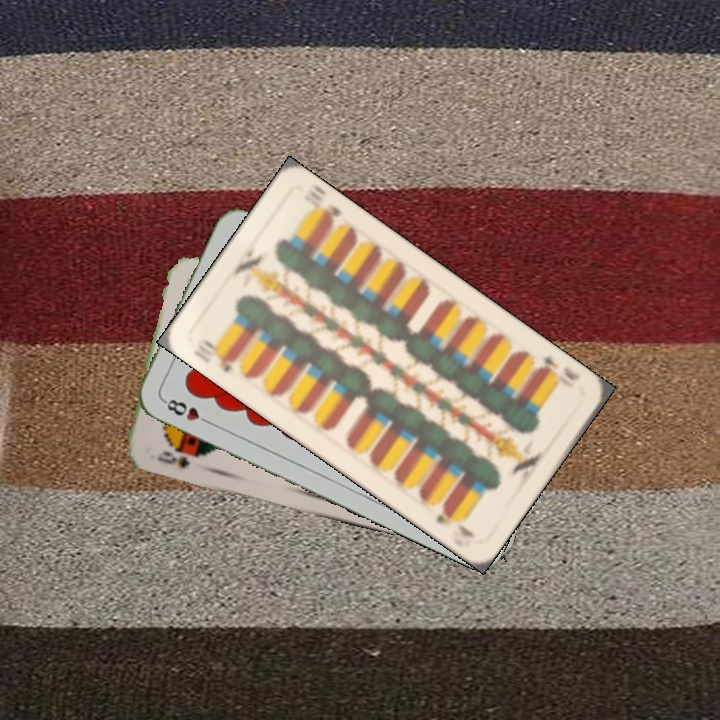E10: (189, 335, 239, 376), (530, 351, 583, 383)
H8: (159, 395, 215, 427)
SO: (153, 446, 201, 471)
